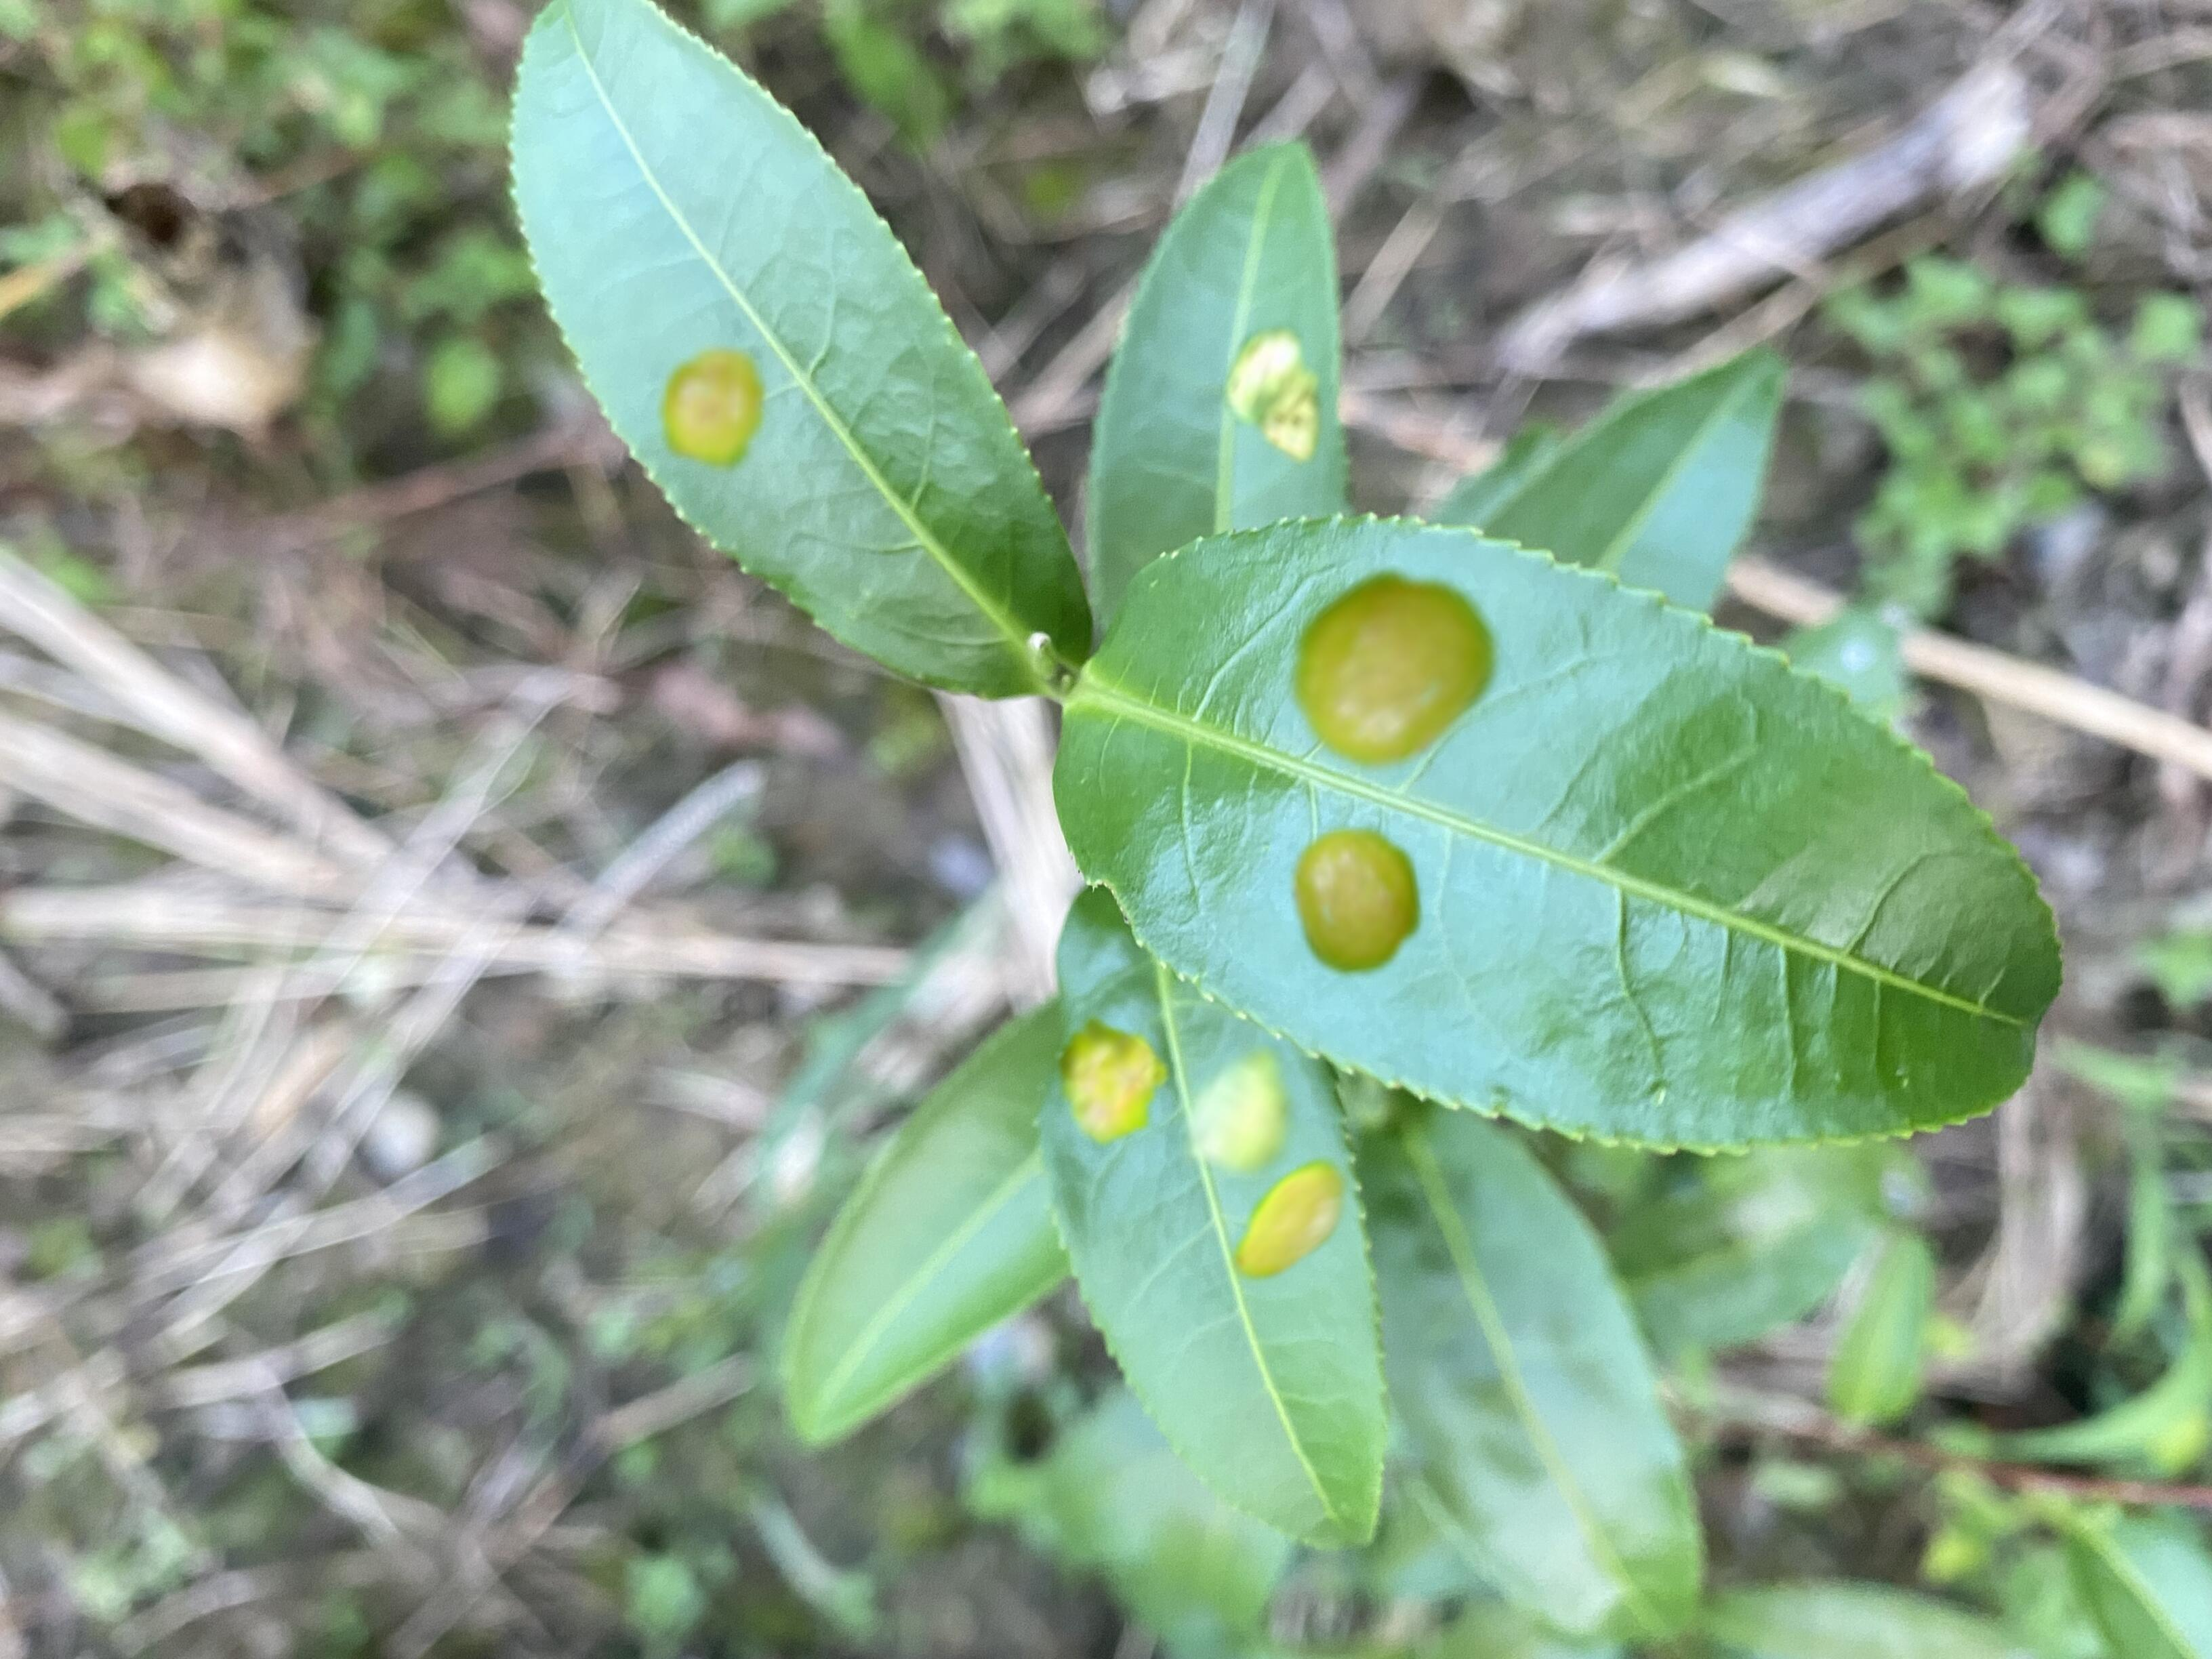chabing_high: (1052, 512, 2066, 1161), (1035, 887, 1379, 1554)
chabing_low: (503, 3, 1094, 702), (1090, 143, 1353, 584)
